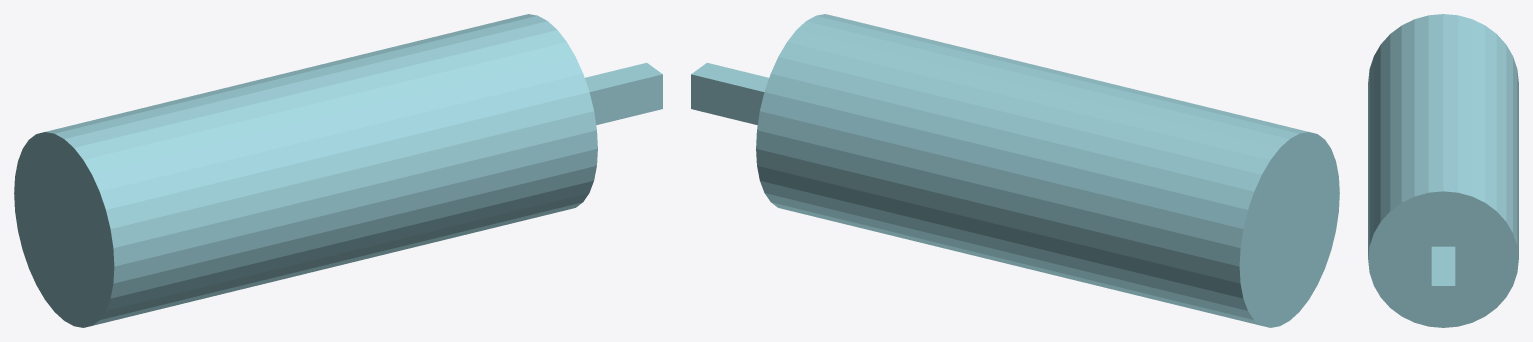
File: cylinder_marker_v4001.obj
The picture shows the model from 3 angles, left to right: view 1: azimuth 30°, elevation 25°; view 2: azimuth 150°, elevation 25°; view 3: azimuth 270°, elevation 25°; orthographic projection. The views are drawn at different scales.
Size of the model in its own units: 0.1584 by 0.0466 by 0.0466.
Materials: 1 (1 with a texture image).
